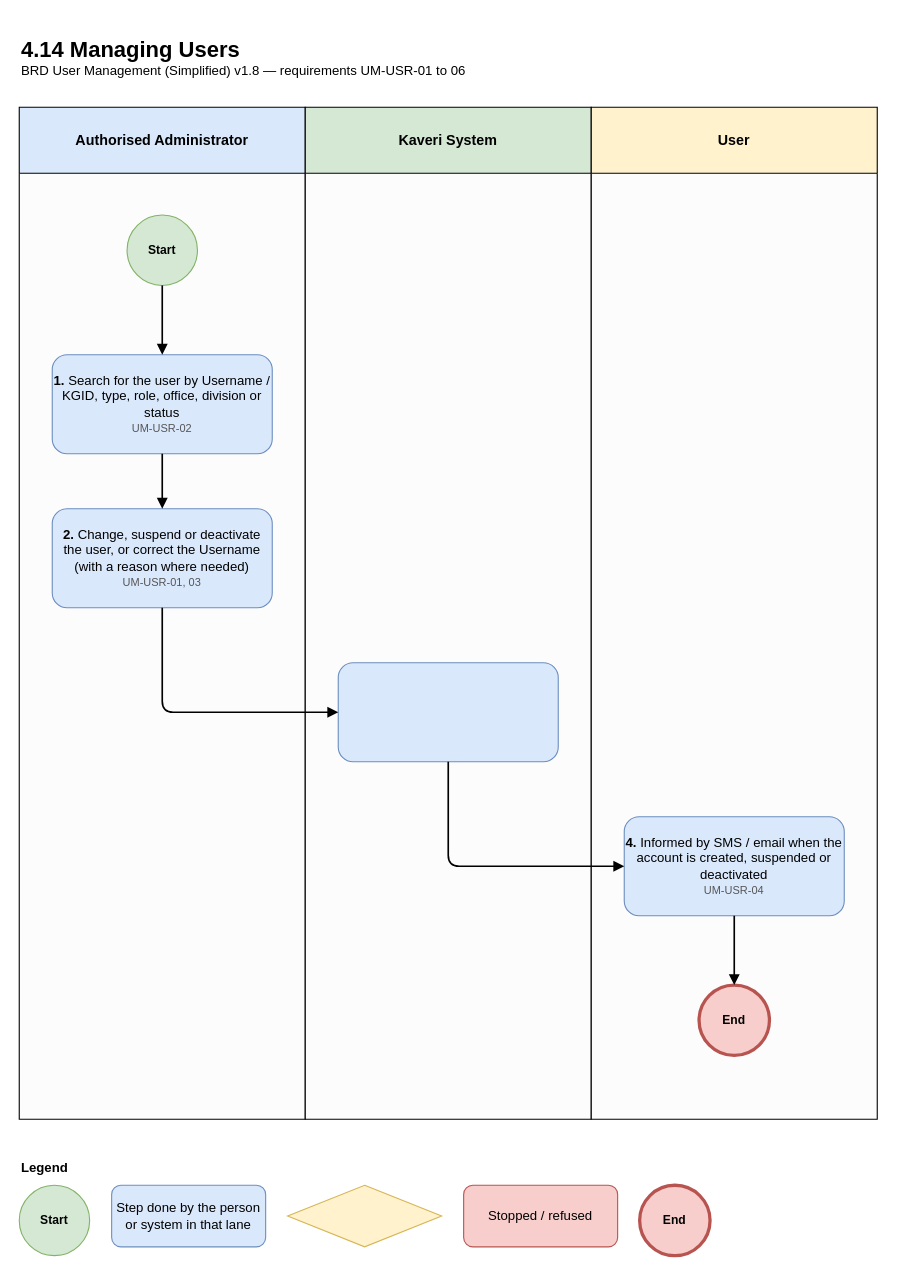
Some shapes in this 897 by 1276 pixel diagram are drawn without their labels. Here are the shapes that lost their labels. From the top down, the centre of each, then its label:
pixel 447 712: 3. Save at once (no second approval) and record the action UM-USR-05, 06
pixel 364 1215: Check / choice
